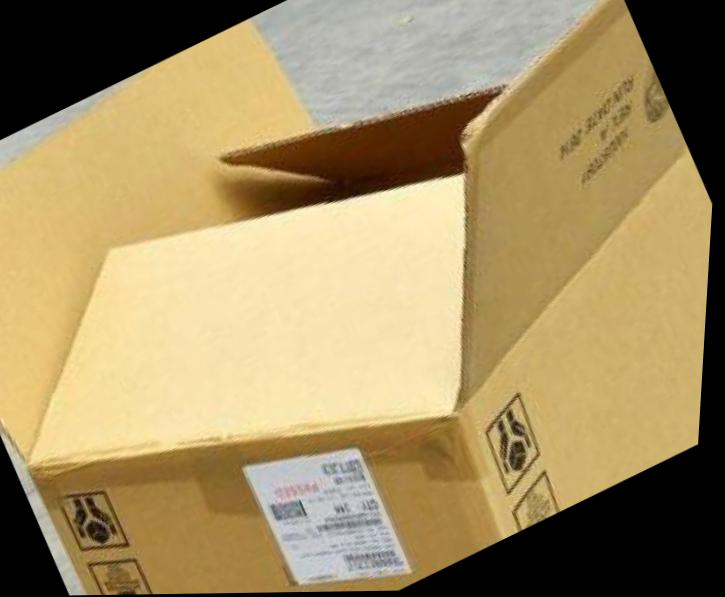cardboard: (0, 0, 724, 593)
